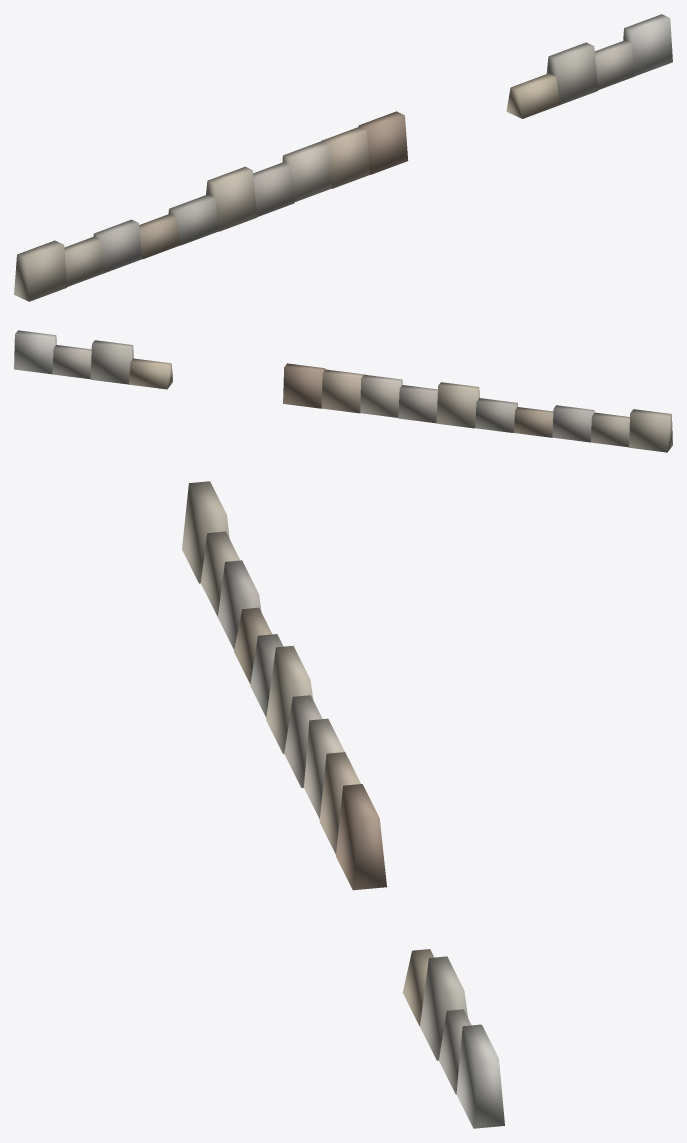
File: farm_13_17_collision.glb
The picture shows the model from 3 angles, top to bottom: view 1: azimuth 30°, elevation 25°; view 2: azimuth 150°, elevation 25°; view 3: azimuth 270°, elevation 25°; orthographic projection. The views are drawn at different scales.
Parts seen in each view (by area): view 1: geometry_0; view 2: geometry_0; view 3: geometry_0.
Part boxes in pixels (left/top/right/bottom): geometry_0: left=14, top=14, right=672, bottom=301; geometry_0: left=14, top=330, right=672, bottom=452; geometry_0: left=182, top=481, right=504, bottom=1128.
Size of the model in its own units: 25.93 by 1.7 by 6.21.
